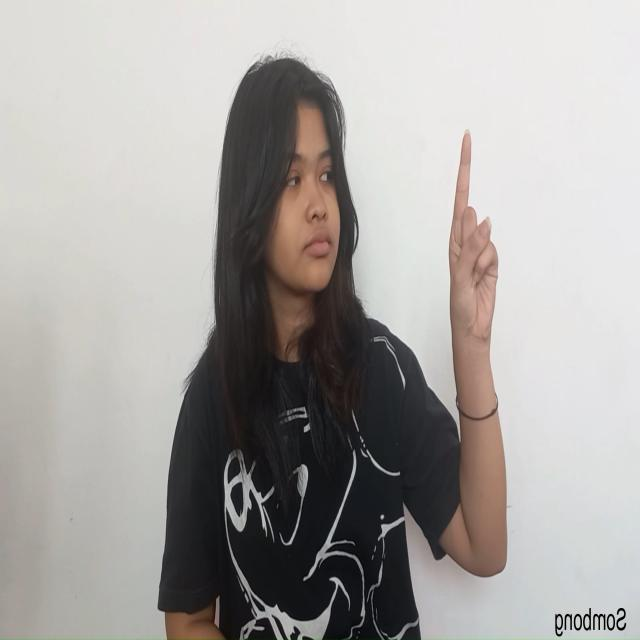Sombong -BISINDO-: (447, 126, 500, 355)
